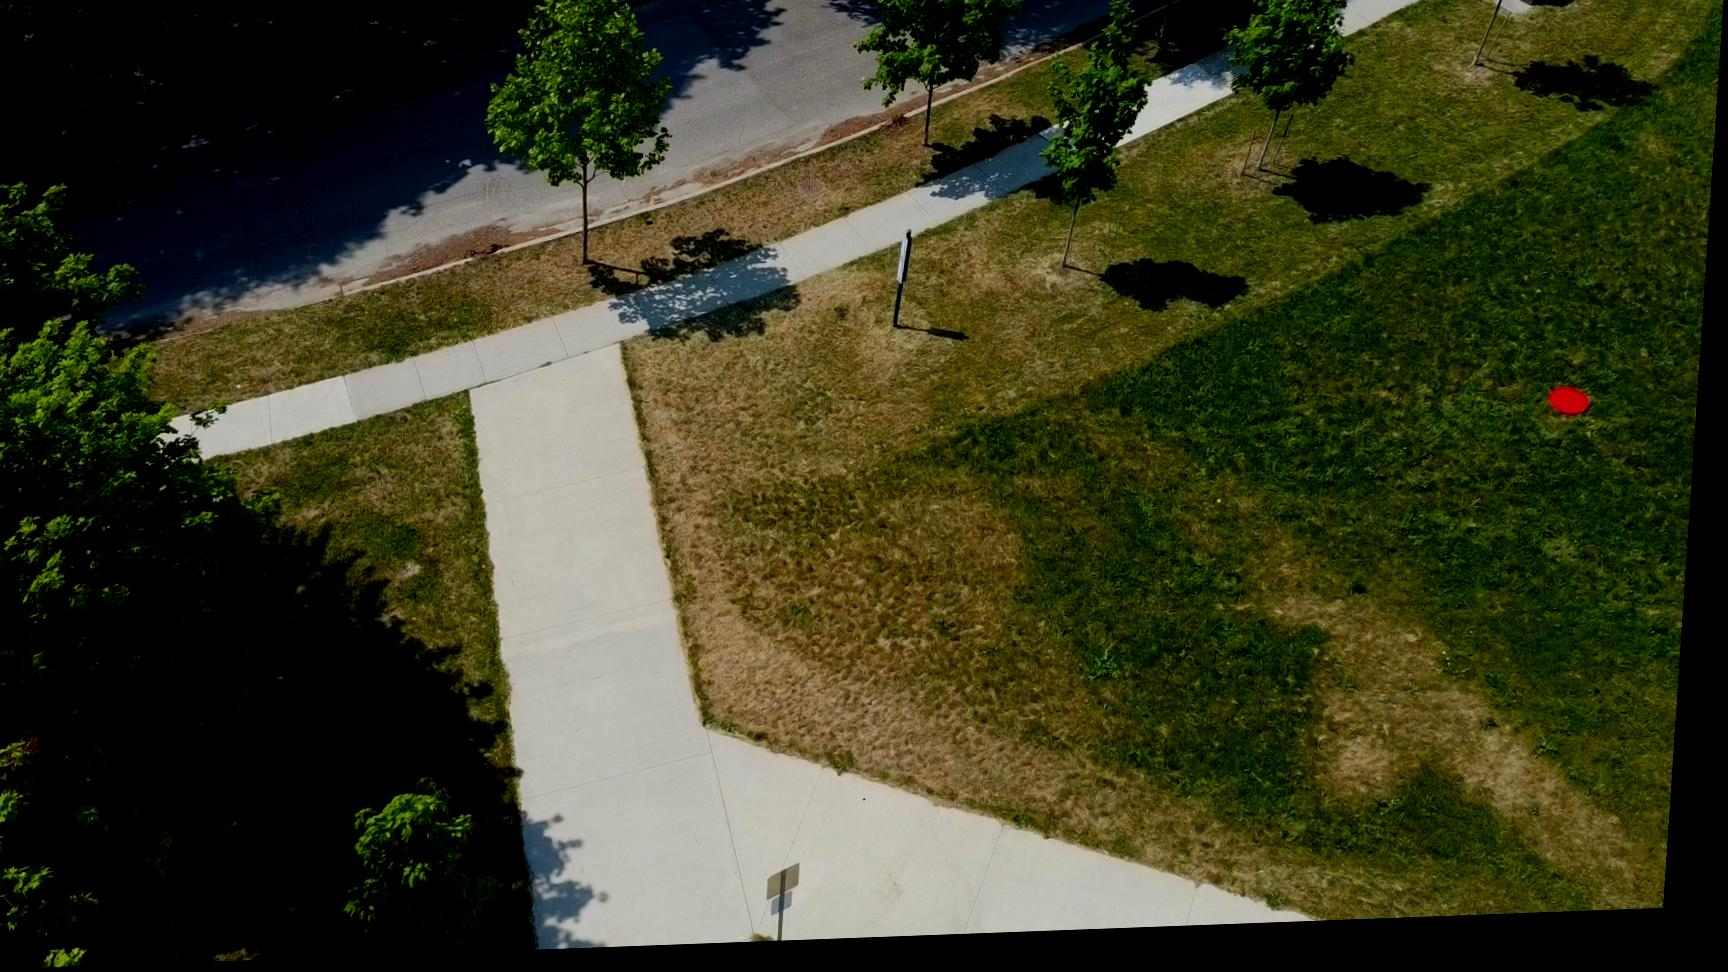Red: (1552, 398, 1597, 430)
